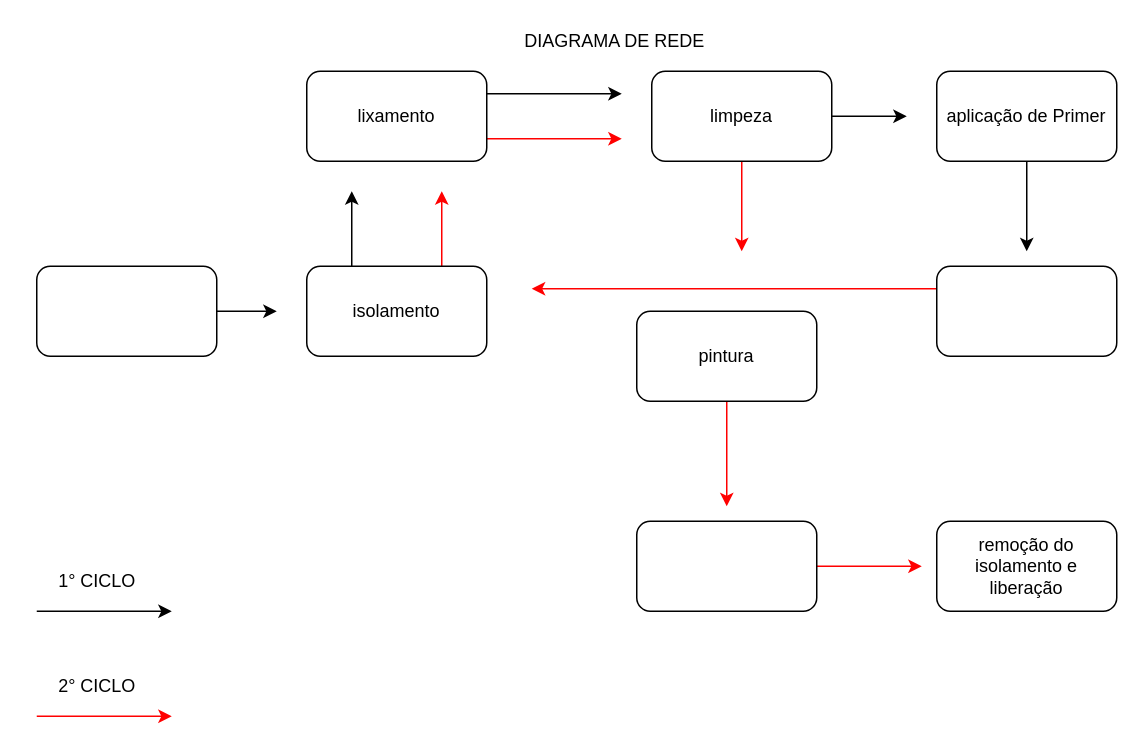
Some shapes in this 1143 by 755 pixel diagram are drawn without their labels. Each missing label, with the box of its shape:
cura do primer: (935, 265, 1117, 356)
cura pintura: (635, 520, 817, 611)
inicio: (35, 265, 217, 356)
